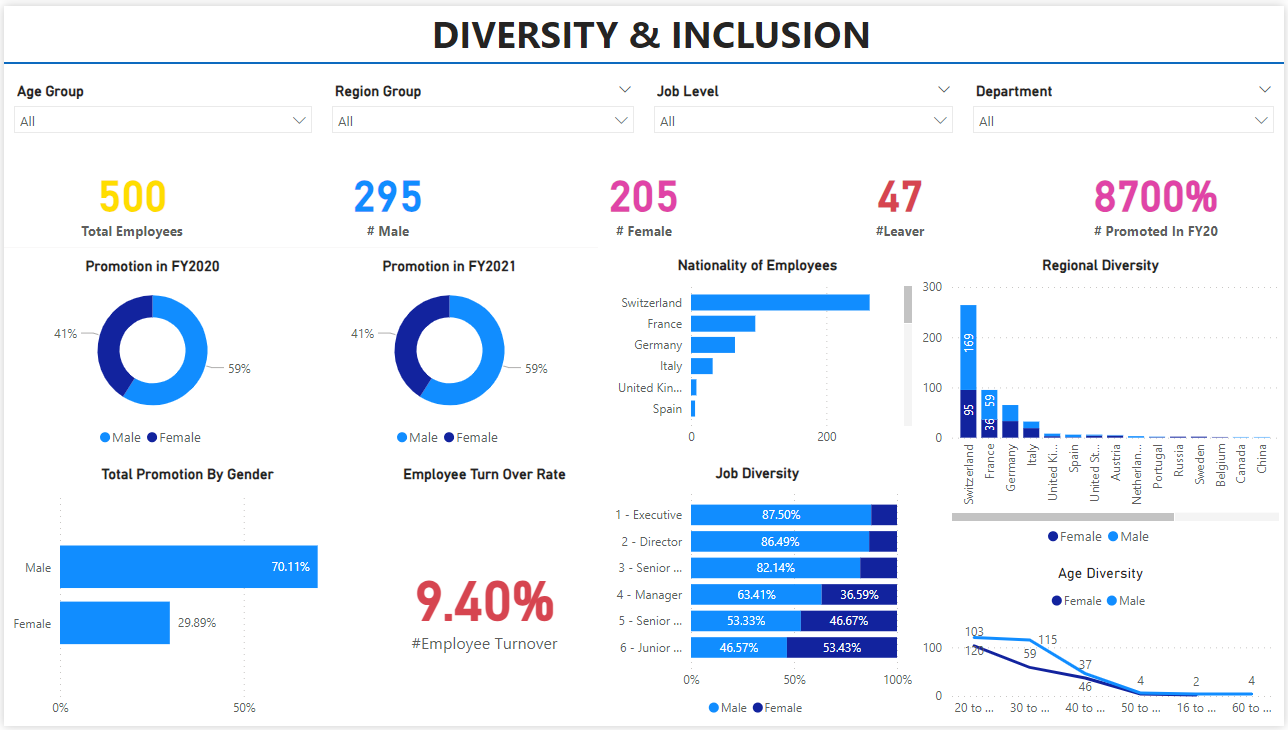

The dashboard page shown, as its layout file describes it:
{"tool":"powerbi","page":{"name":"Dashboard 3","canvas":[1280,720],"ordinal":2},"visuals":[{"type":"textbox","box":[0,0,1280,57],"z":0},{"type":"card","fields":{"Values":["Pharma.# male"]},"box":[256,147,256,94],"z":0,"group":"g2"},{"type":"card","fields":{"Values":["CountNonNull(Pharma.Employee ID)"]},"box":[0,147,256,94],"z":6,"group":"g1"},{"type":"slicer","fields":{"Values":["Pharma.Last Department in FY20"]},"box":[959,57,321,90],"z":1000},{"type":"group","id":"g1","title":"Group 1","box":[0,147,256,94],"z":1000,"group":"g2"},{"type":"slicer","fields":{"Values":["Pharma.Job Level after FY20 promotions"]},"box":[640,57,319,90],"z":2000},{"type":"card","fields":{"Values":["Pharma.# Female"]},"box":[512,147,256,94],"z":2000,"group":"g2"},{"type":"slicer","fields":{"Values":["Pharma.Age group"]},"box":[0,57,318,90],"z":3000},{"type":"card","fields":{"Values":["Pharma.#Leaver"]},"box":[768,147,256,94],"z":3000,"group":"g2"},{"type":"slicer","fields":{"Values":["Pharma.Broad region group: nationality 1"]},"box":[318,57,322,90],"z":4000},{"type":"card","fields":{"Values":["Pharma.# Promoted FY20"]},"box":[1024,147,256,94],"z":4000,"group":"g2"},{"type":"shape","box":[0,45,1280,24],"z":5000},{"type":"group","id":"g2","title":"Group 2","box":[0,147,1280,94],"z":6000},{"type":"donutChart","title":"Promotion in FY2020","fields":{"Category":["Pharma.Gender"],"Y":["CountNonNull(Pharma.Promotion in FY20?)"]},"box":[0,242,297,208],"z":7000},{"type":"donutChart","title":"Promotion in FY2021","fields":{"Category":["Pharma.Gender"],"Y":["CountNonNull(Pharma.Nationality 1)"]},"box":[297,242,297,208],"z":8000},{"type":"barChart","title":"Total Promotion By Gender","fields":{"Category":["Pharma.Gender"],"Y":["Pharma.# Promoted In FY20"]},"box":[0,450,367,270],"z":9000},{"type":"card","title":"Employee Turn Over Rate","fields":{"Values":["Pharma.#Employee Turnover"]},"box":[367,450,227,270],"z":10000},{"type":"barChart","title":"Nationality of Employees","fields":{"Y":["CountNonNull(Pharma.Employee ID)"],"Category":["Pharma.Nationality 1"]},"box":[594,241,319,208],"z":11000},{"type":"columnChart","title":"Regional Diversity","fields":{"Category":["Pharma.Nationality 1"],"Y":["CountNonNull(Pharma.Gender)"],"Series":["Pharma.Gender"]},"box":[913,241,367,308],"z":12000},{"type":"hundredPercentStackedBarChart","title":"Job Diversity","fields":{"Category":["Pharma.Job Level after FY20 promotions"],"Series":["Pharma.Gender"],"Y":["Divide(CountNonNull(Pharma.Gender), ScopedEval(CountNonNull(Pharma.Gender), []))"]},"box":[594,449,319,271],"z":13000},{"type":"lineChart","title":"Age Diversity","fields":{"Series":["Pharma.Gender"],"Category":["Pharma.Age group"],"Y":["CountNonNull(Pharma.Employee ID)"]},"box":[913,549,367,171],"z":14000}]}

Visuals, with their boxes in screenshot pixels (x1, y1, x2, y2), scaled from the page's 1280x720 canvas onto the 1288x730 screenshot:
textbox: Rect(0, 0, 1287, 58)
card - Pharma.# male: Rect(258, 149, 515, 244)
card - CountNonNull(Pharma.Employee ID): Rect(0, 149, 258, 244)
slicer - Pharma.Last Department in FY20: Rect(965, 58, 1287, 149)
"Group 1" group: Rect(0, 149, 258, 244)
slicer - Pharma.Job Level after FY20 promotions: Rect(644, 58, 965, 149)
card - Pharma.# Female: Rect(515, 149, 773, 244)
slicer - Pharma.Age group: Rect(0, 58, 320, 149)
card - Pharma.#Leaver: Rect(773, 149, 1030, 244)
slicer - Pharma.Broad region group: nationality 1: Rect(320, 58, 644, 149)
card - Pharma.# Promoted FY20: Rect(1030, 149, 1287, 244)
shape: Rect(0, 46, 1287, 70)
"Group 2" group: Rect(0, 149, 1287, 244)
"Promotion in FY2020" donutChart: Rect(0, 245, 299, 456)
"Promotion in FY2021" donutChart: Rect(299, 245, 598, 456)
"Total Promotion By Gender" barChart: Rect(0, 456, 369, 729)
"Employee Turn Over Rate" card: Rect(369, 456, 598, 729)
"Nationality of Employees" barChart: Rect(598, 244, 919, 455)
"Regional Diversity" columnChart: Rect(919, 244, 1287, 557)
"Job Diversity" hundredPercentStackedBarChart: Rect(598, 455, 919, 729)
"Age Diversity" lineChart: Rect(919, 557, 1287, 729)
